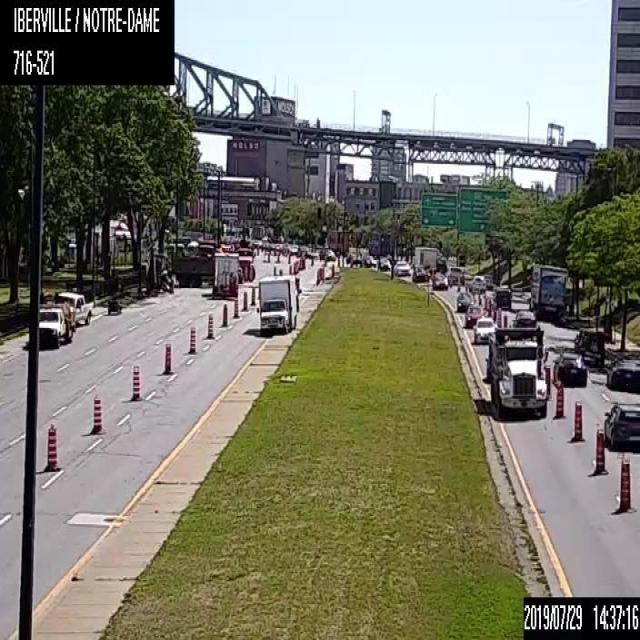construction: (41, 421, 62, 471), (617, 459, 631, 509), (87, 394, 102, 434), (594, 425, 604, 472), (161, 338, 174, 374), (129, 363, 141, 400), (572, 397, 582, 440), (554, 384, 564, 417), (186, 324, 196, 352), (204, 311, 213, 337), (544, 364, 551, 397), (220, 303, 228, 325), (241, 290, 247, 310), (249, 284, 255, 304), (233, 298, 239, 318), (496, 308, 501, 327), (503, 313, 507, 326), (288, 264, 292, 273), (272, 265, 275, 275), (278, 268, 282, 275), (266, 252, 269, 261), (276, 252, 279, 261), (287, 254, 290, 262)
vehicle: (490, 326, 546, 418), (254, 273, 299, 334), (528, 262, 567, 320), (172, 242, 220, 285), (603, 401, 639, 451), (37, 303, 74, 345), (605, 352, 639, 392), (52, 291, 93, 324), (212, 252, 238, 298), (574, 327, 604, 365), (552, 352, 586, 385), (234, 248, 254, 281), (473, 316, 495, 342), (414, 247, 436, 270), (493, 281, 512, 307), (511, 308, 536, 326), (464, 305, 482, 329), (456, 292, 473, 312), (412, 262, 429, 281), (393, 260, 411, 276), (470, 274, 486, 292), (432, 273, 448, 289), (378, 256, 390, 270), (364, 254, 376, 267), (484, 273, 492, 288)
